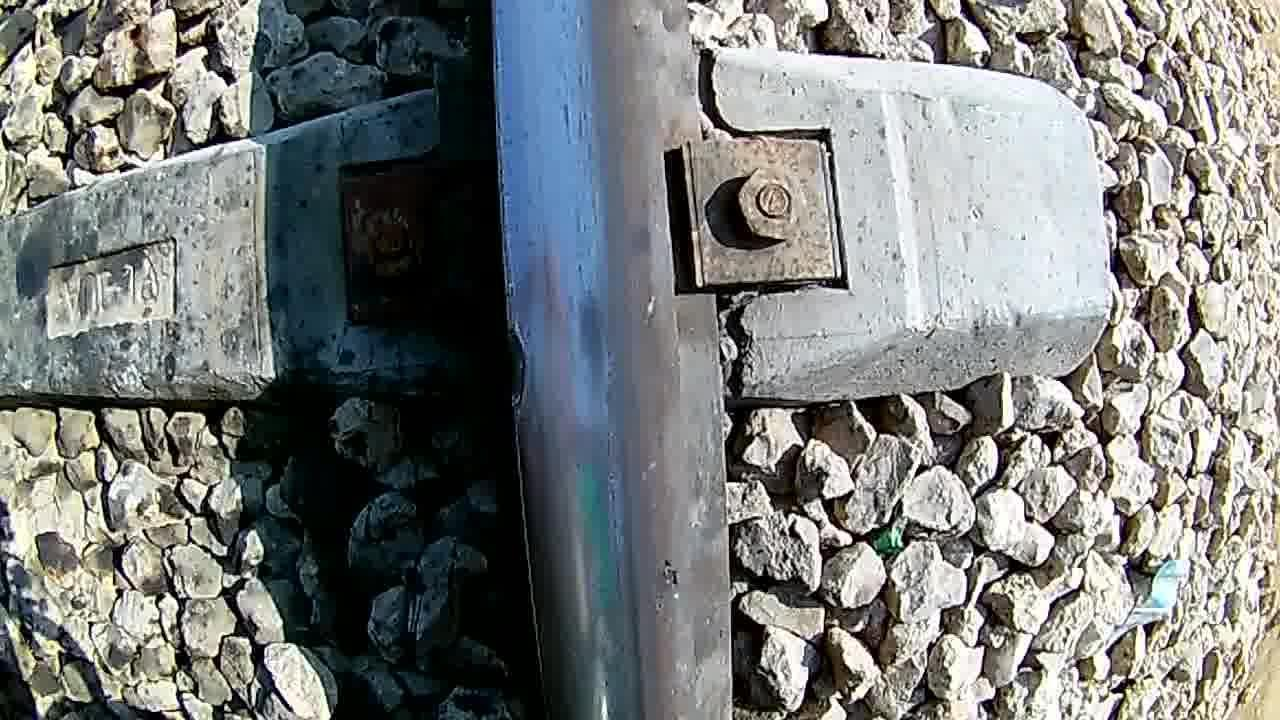crack: (522, 0, 682, 720)
